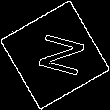N_W: (25, 29, 85, 81)
